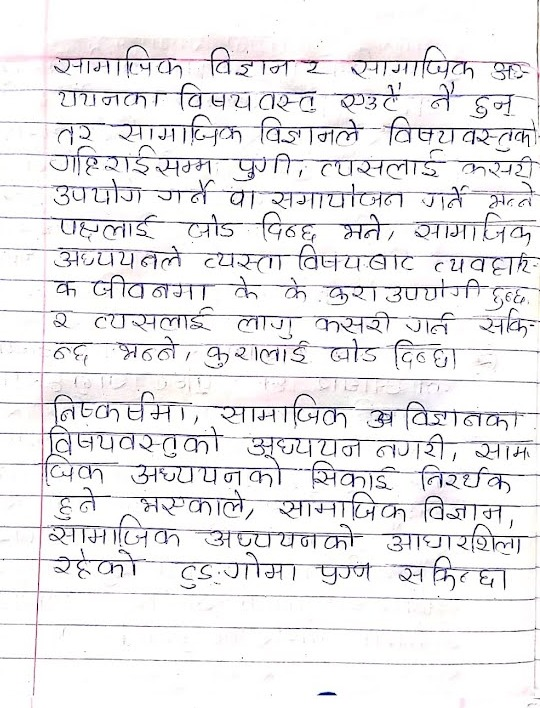text: (46, 423, 220, 457), (381, 115, 536, 152), (48, 146, 218, 177), (129, 456, 288, 488), (219, 393, 350, 431), (170, 549, 299, 587), (49, 390, 189, 425), (50, 43, 186, 79), (346, 43, 477, 80), (45, 515, 180, 549), (384, 523, 527, 554), (310, 149, 449, 180), (277, 490, 406, 523), (410, 212, 532, 246), (110, 116, 243, 147), (267, 184, 407, 213), (200, 525, 361, 549), (399, 400, 522, 431), (52, 244, 182, 273), (396, 555, 498, 591), (253, 115, 367, 146), (294, 244, 414, 273), (90, 306, 214, 334), (90, 274, 215, 301), (200, 46, 293, 80), (138, 489, 245, 518), (415, 465, 515, 495), (52, 213, 159, 241), (51, 175, 147, 206), (245, 434, 362, 459), (307, 459, 395, 491), (205, 342, 309, 369), (53, 548, 143, 579), (54, 88, 166, 112), (382, 278, 485, 304), (42, 451, 114, 487), (431, 250, 534, 275), (421, 496, 509, 524), (199, 250, 291, 275), (175, 82, 253, 111), (314, 308, 391, 337), (253, 210, 322, 242), (338, 81, 403, 113), (458, 154, 538, 180), (375, 434, 448, 461), (386, 339, 450, 369), (233, 311, 296, 341), (233, 151, 295, 181), (312, 561, 378, 588), (117, 335, 181, 362), (157, 177, 216, 205), (476, 309, 535, 337), (486, 180, 537, 212), (324, 338, 380, 367), (257, 88, 319, 114), (52, 486, 98, 520), (50, 118, 107, 144), (185, 213, 238, 240), (339, 212, 383, 244), (476, 437, 530, 463), (322, 282, 381, 305), (402, 311, 454, 337), (421, 185, 472, 211), (48, 338, 91, 368), (486, 283, 532, 309), (469, 93, 514, 119), (426, 82, 460, 113), (274, 277, 311, 303), (228, 275, 262, 301), (488, 58, 527, 80), (226, 185, 259, 210), (299, 57, 329, 80), (48, 277, 79, 299), (49, 308, 74, 332)
